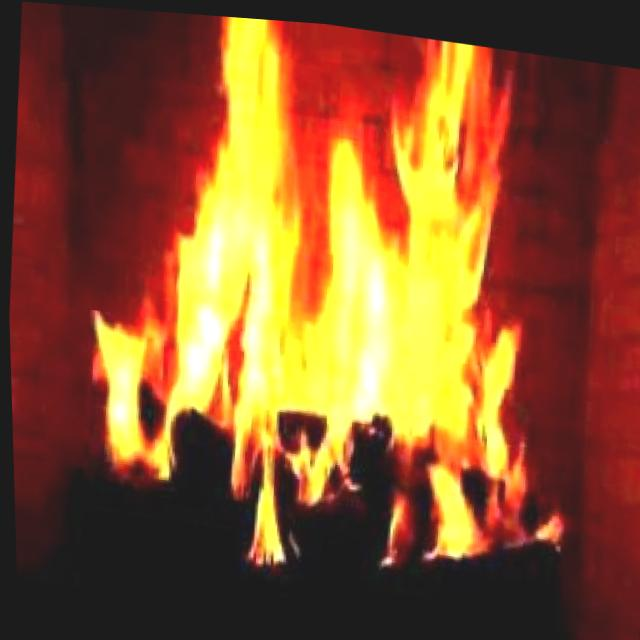Fire: (95, 6, 519, 521)
